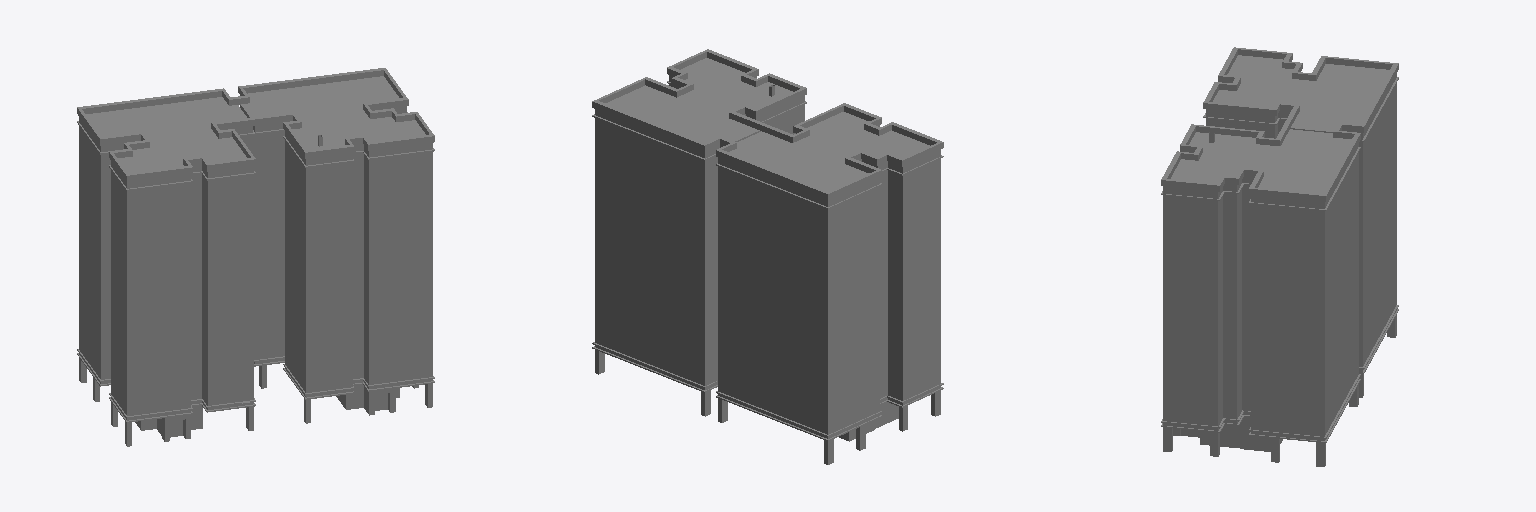
3 renders of one model, left to right at view 1: azimuth 30°, elevation 25°; view 2: azimuth 150°, elevation 25°; view 3: azimuth 270°, elevation 25°, orthographic.
Visible parts, largest first — view 1: JZ_JX_624; view 2: JZ_JX_624; view 3: JZ_JX_624.
Part boxes in pixels (left/top/right/bottom): JZ_JX_624: left=77, top=68, right=434, bottom=446; JZ_JX_624: left=592, top=49, right=943, bottom=464; JZ_JX_624: left=1161, top=47, right=1398, bottom=466.
Size of the model in its own units: 3064 by 2643 by 2069.